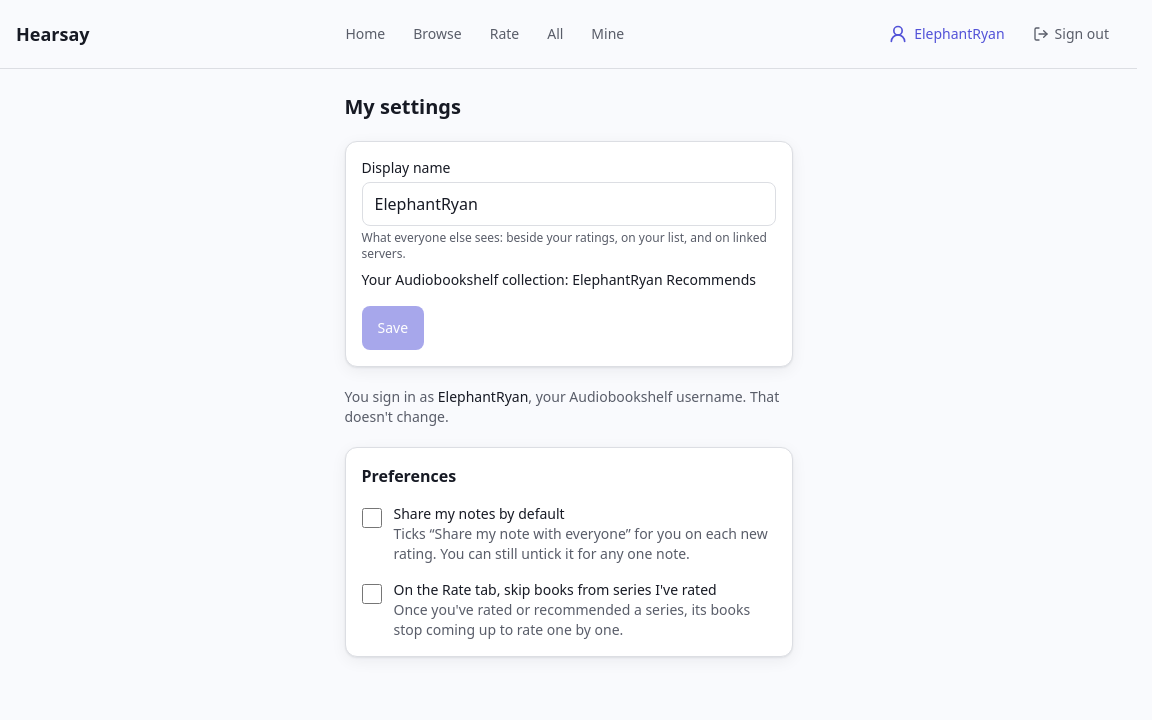
Scenario: the settings page › goes back to the username in one tap
Replace the text in the field labelled "Display name" with "Someone" at (568, 204), box [362,182,776,226]
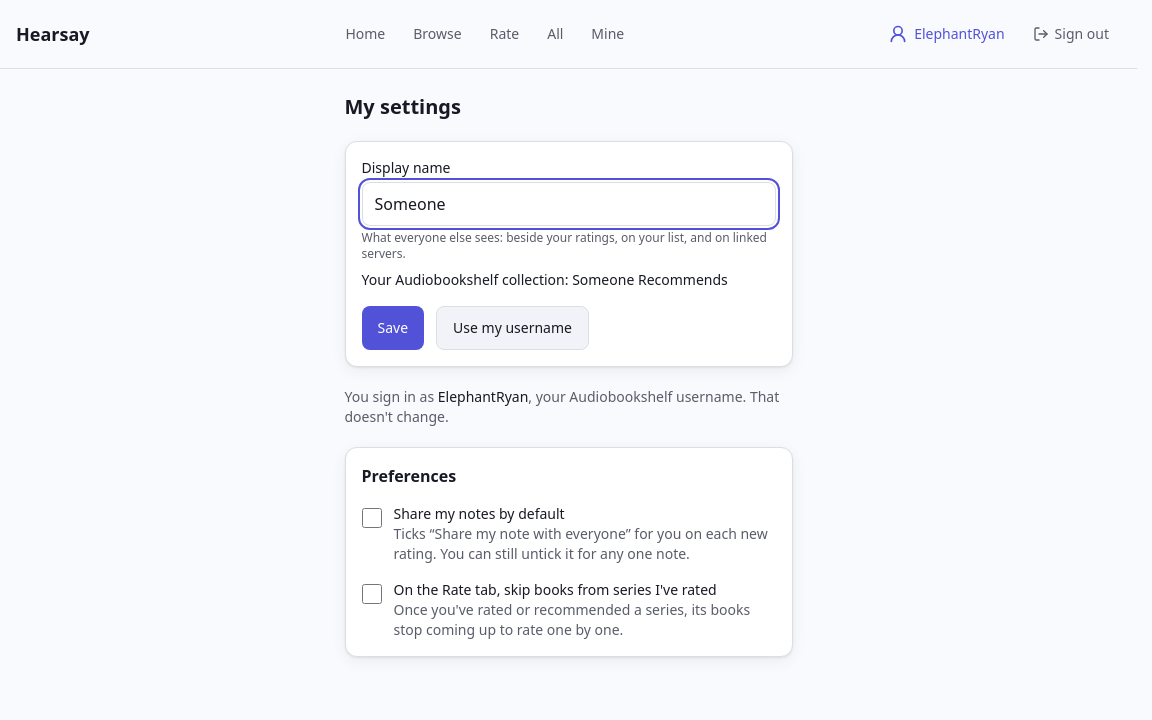
Click the button "Use my username" at (513, 328), box [436,306,589,350]
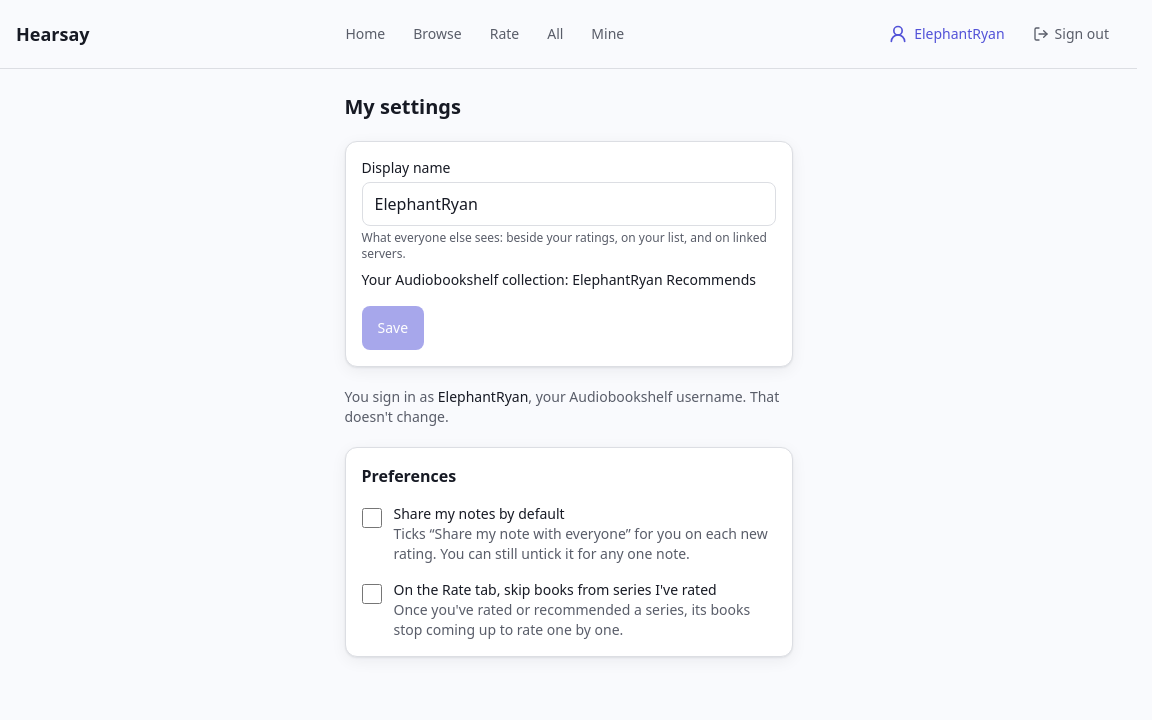
Expected: the field labelled "Display name" holds "ElephantRyan", [362,182,776,226]
Expected: the button "Use my username" is gone
